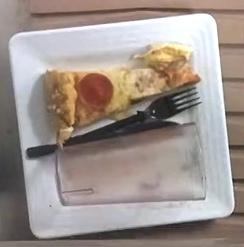pizza: (45, 43, 200, 126)
